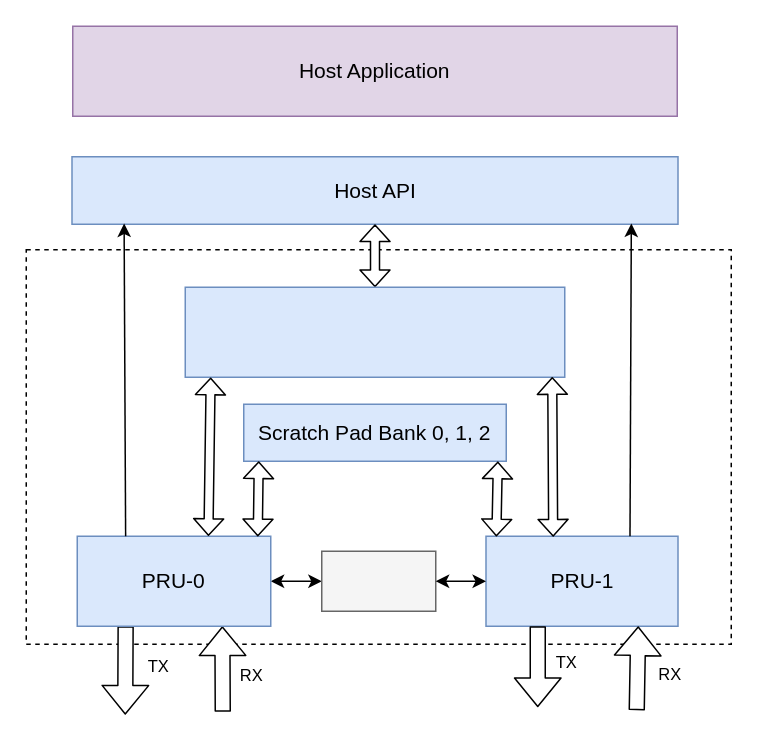
This 758x741 diagram has some shape labels left out. Here are the shapes that lost their labels. From the top down, the box of each, then its label:
(184, 286, 565, 377): ICSS shared memory (EMAC registers and Queues)
(320, 550, 436, 611): IEP
